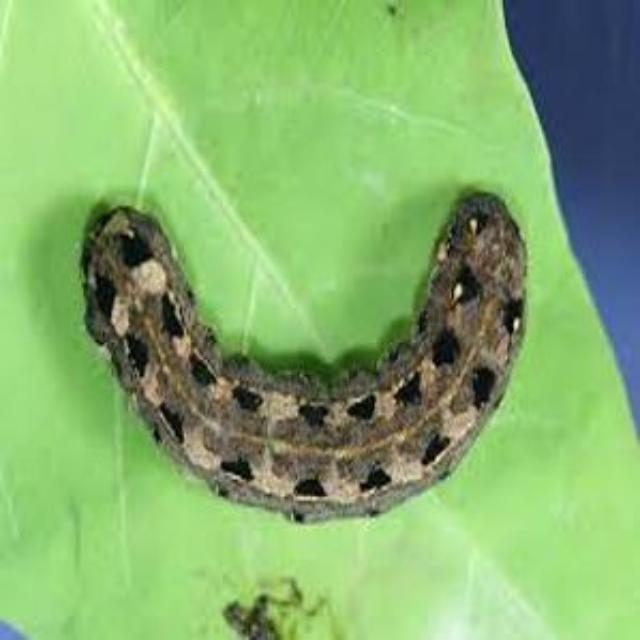Tobacco cutworm: (59, 138, 542, 564)
